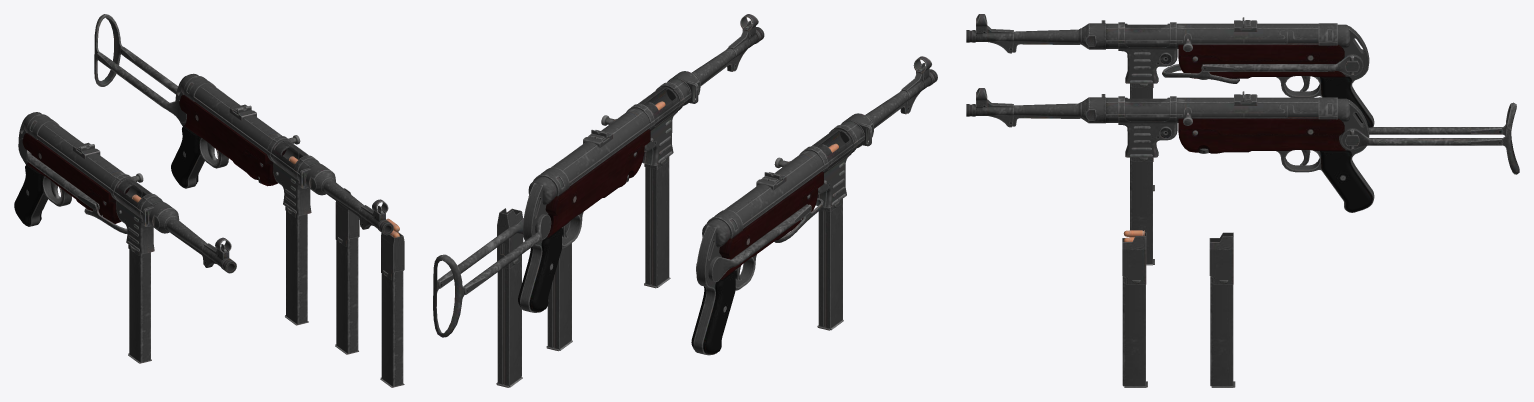
The picture shows the model from 3 angles, left to right: view 1: azimuth 30°, elevation 25°; view 2: azimuth 150°, elevation 25°; view 3: azimuth 270°, elevation 25°; orthographic projection. The views are drawn at different scales.
Parts seen in each view (by area): view 1: Cube.007, Cube.004, Cube.001, Cube.002, Cube.003, Cube.006, Cylinder.017, Cylinder.001, Circle; view 2: Cube.007, Cube.004, Cube.002, Cube.006, Cube.003, Cube.001, Cylinder.017, Cylinder.001, Circle; view 3: Cube.007, Cube.004, Cube.001, Cube.002, Cylinder.017, Cube.006, Cylinder.001, Circle, Circle.001.
Part boxes in pixels (left/top/right/bottom): Cube.007: left=171, top=73, right=393, bottom=235; Cube.004: left=14, top=112, right=236, bottom=273; Cube.001: left=380, top=218, right=404, bottom=387; Cube.002: left=335, top=188, right=359, bottom=354; Cube.003: left=128, top=194, right=151, bottom=363; Cube.006: left=285, top=156, right=308, bottom=325; Cylinder.017: left=96, top=47, right=186, bottom=122; Cylinder.001: left=18, top=138, right=99, bottom=210; Circle: left=94, top=14, right=123, bottom=86; Cube.007: left=518, top=14, right=764, bottom=312; Cube.004: left=691, top=56, right=937, bottom=355; Cube.002: left=496, top=208, right=523, bottom=387; Cube.006: left=644, top=101, right=670, bottom=288; Cube.003: left=817, top=143, right=843, bottom=330; Cube.001: left=546, top=222, right=572, bottom=351; Cylinder.017: left=437, top=214, right=551, bottom=294; Cylinder.001: left=696, top=204, right=811, bottom=281; Circle: left=433, top=254, right=465, bottom=337; Cube.007: left=966, top=88, right=1374, bottom=212; Cube.004: left=966, top=14, right=1374, bottom=127; Cube.001: left=1122, top=230, right=1147, bottom=387; Cube.002: left=1209, top=232, right=1235, bottom=387; Cylinder.017: left=1341, top=127, right=1503, bottom=149; Cube.006: left=1130, top=157, right=1154, bottom=265; Cylinder.001: left=1201, top=54, right=1363, bottom=75; Circle: left=1499, top=102, right=1519, bottom=174; Circle.001: left=1162, top=64, right=1239, bottom=83.
Bounding box in the file's own units: 3.46 × 3.2 × 6.33.
Materials: 1 (1 with a texture image).
